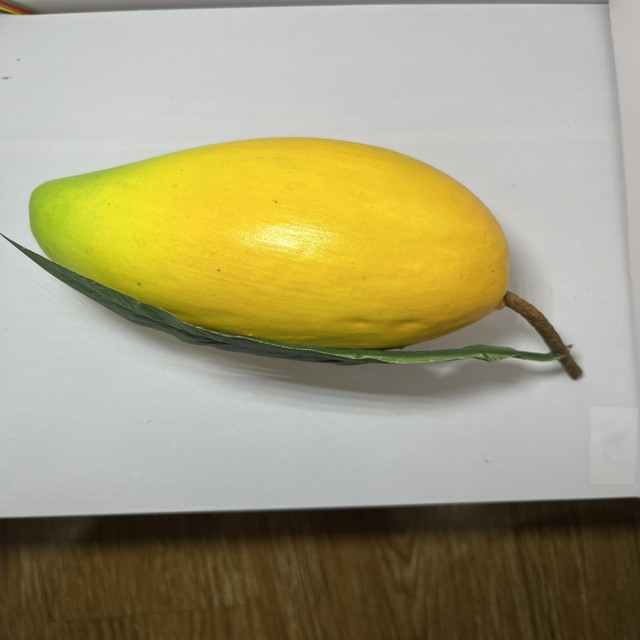Xoai: (24, 130, 521, 362)
